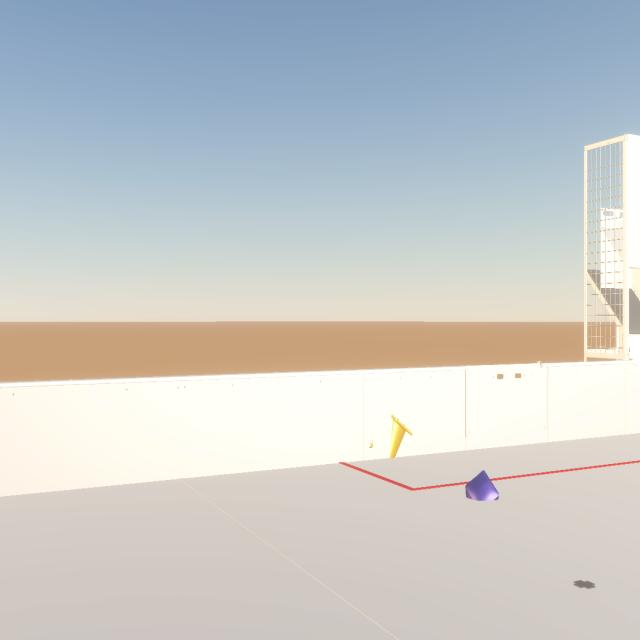frc_cone: (389, 414, 413, 458), (369, 439, 373, 448)
frc_cube: (465, 470, 499, 500)
